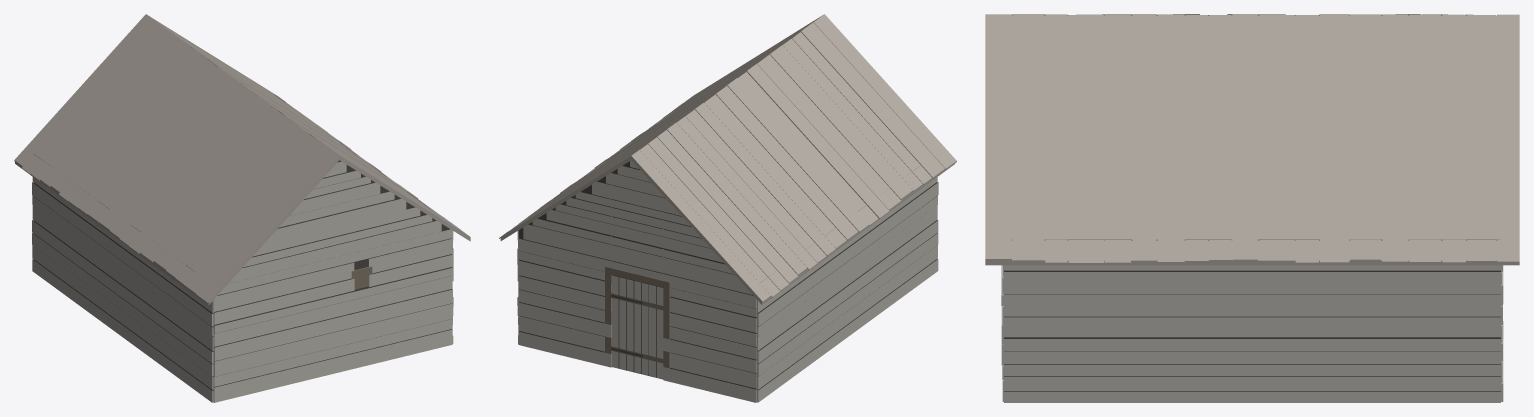
The model's file is recon_1835_blk_randolph_clark_w2_09__inferred_1835.glb.
3 renders of one model, left to right at view 1: azimuth 30°, elevation 25°; view 2: azimuth 150°, elevation 25°; view 3: azimuth 270°, elevation 25°, orthographic. The views are drawn at different scales.
Visible parts, largest first — view 1: recon_1835_blk_randolph_clark_w2_09__inferred_1835; view 2: recon_1835_blk_randolph_clark_w2_09__inferred_1835; view 3: recon_1835_blk_randolph_clark_w2_09__inferred_1835.
Part boxes in pixels (box(x1,y1,x2,y2)): recon_1835_blk_randolph_clark_w2_09__inferred_1835: box(14, 14, 470, 402); recon_1835_blk_randolph_clark_w2_09__inferred_1835: box(499, 14, 956, 402); recon_1835_blk_randolph_clark_w2_09__inferred_1835: box(985, 14, 1519, 402).
Bounding box in the file's own units: 6.89 × 5.53 × 8.69.
